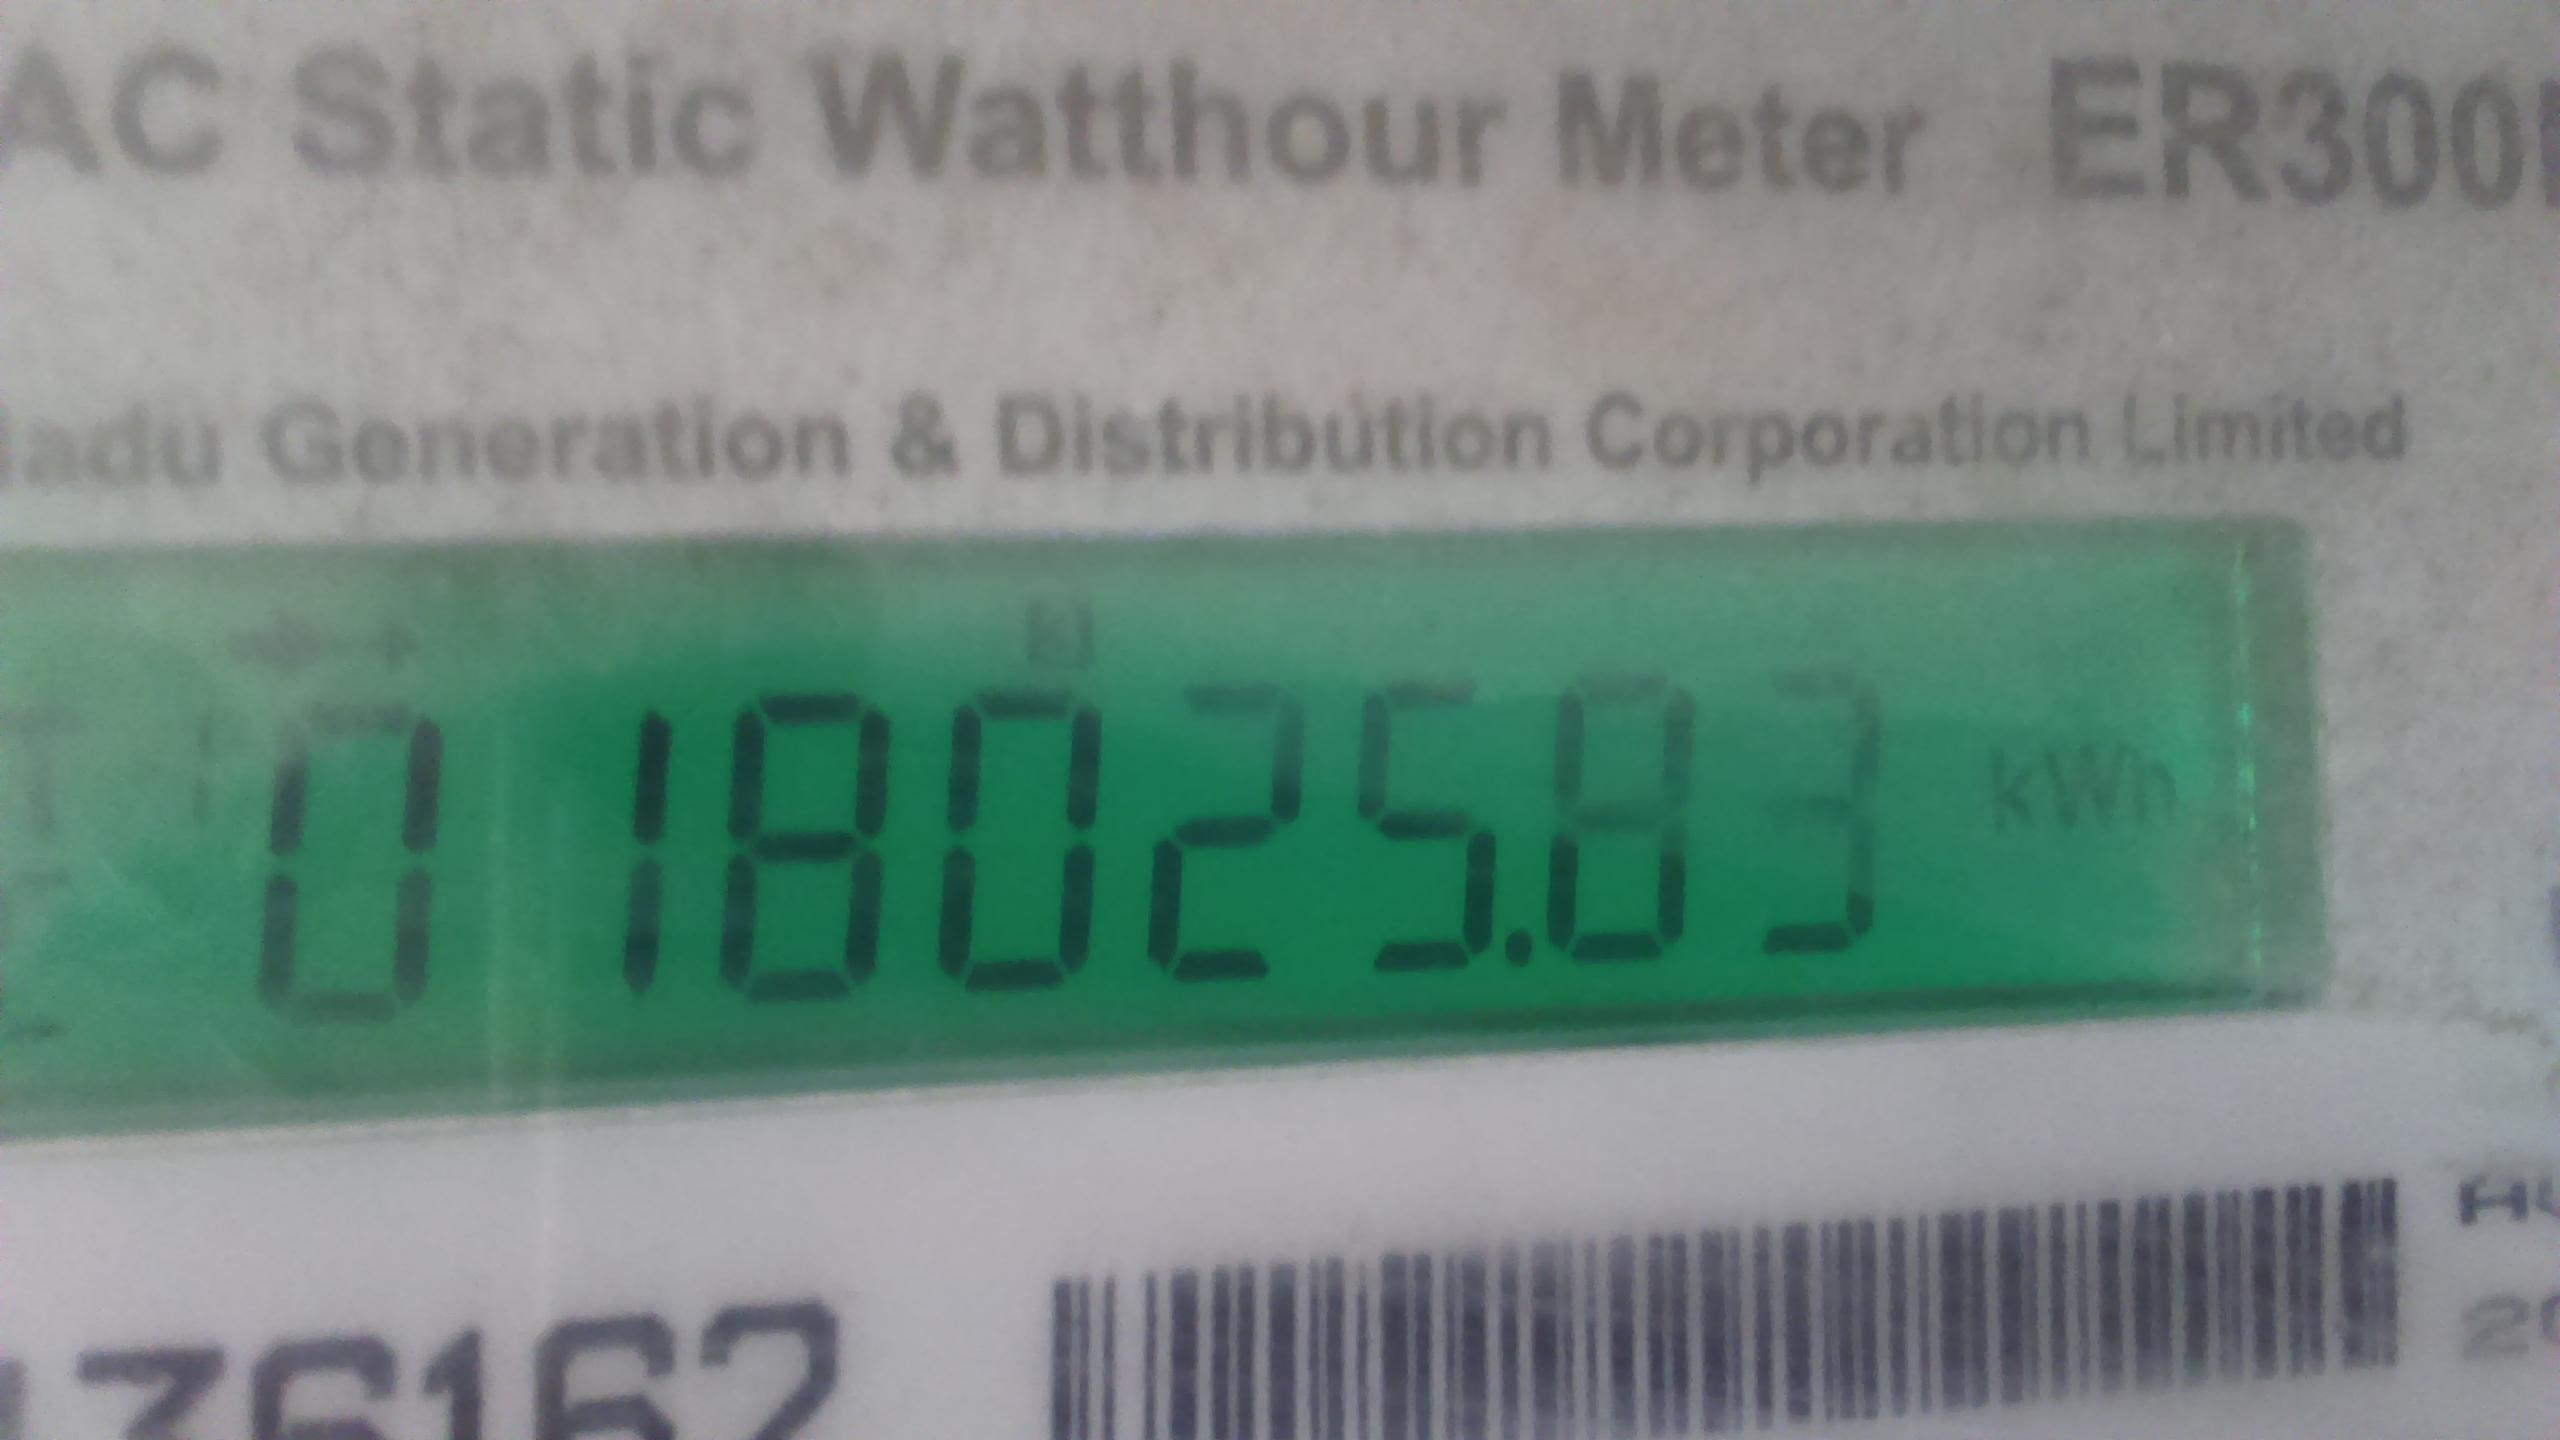.: (1946, 703, 2207, 863)
0: (1482, 918, 1561, 999)
1: (211, 673, 501, 1032), (895, 673, 1116, 999)
2: (605, 679, 707, 999)
3: (1148, 654, 1322, 1016)
4: (1751, 663, 1927, 1020)
6: (1350, 668, 1496, 958)
9: (717, 684, 913, 1006), (1542, 658, 1727, 956)
